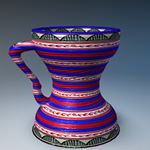cups: (5, 22, 124, 150)
